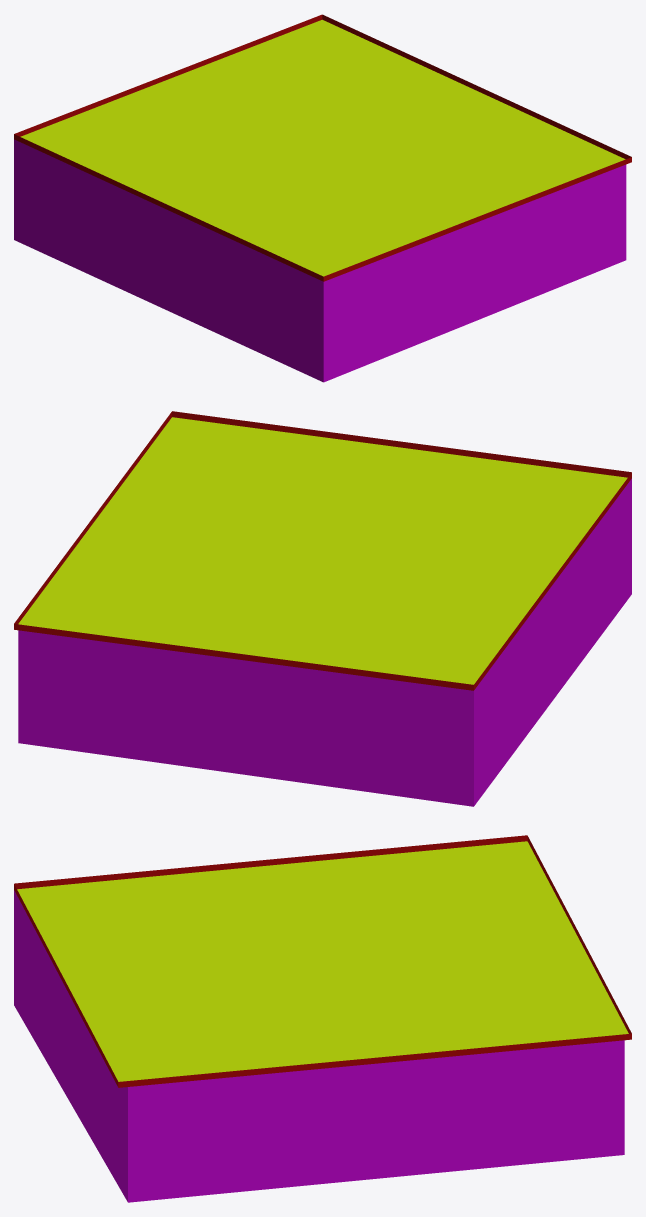
The model's file is sjs_61.glb.
3 renders of one model, top to bottom at view 1: azimuth 30°, elevation 25°; view 2: azimuth 150°, elevation 25°; view 3: azimuth 270°, elevation 25°, orthographic. The views are drawn at different scales.
Parts seen in each view (by area): view 1: sjs_61; view 2: sjs_61; view 3: sjs_61.
Boxes of the visible parts, left/top/right/bottom form: sjs_61: left=14, top=14, right=631, bottom=382; sjs_61: left=14, top=411, right=631, bottom=806; sjs_61: left=14, top=835, right=631, bottom=1202.
Size of the model in its own units: 30.94 by 7.12 by 32.76.
